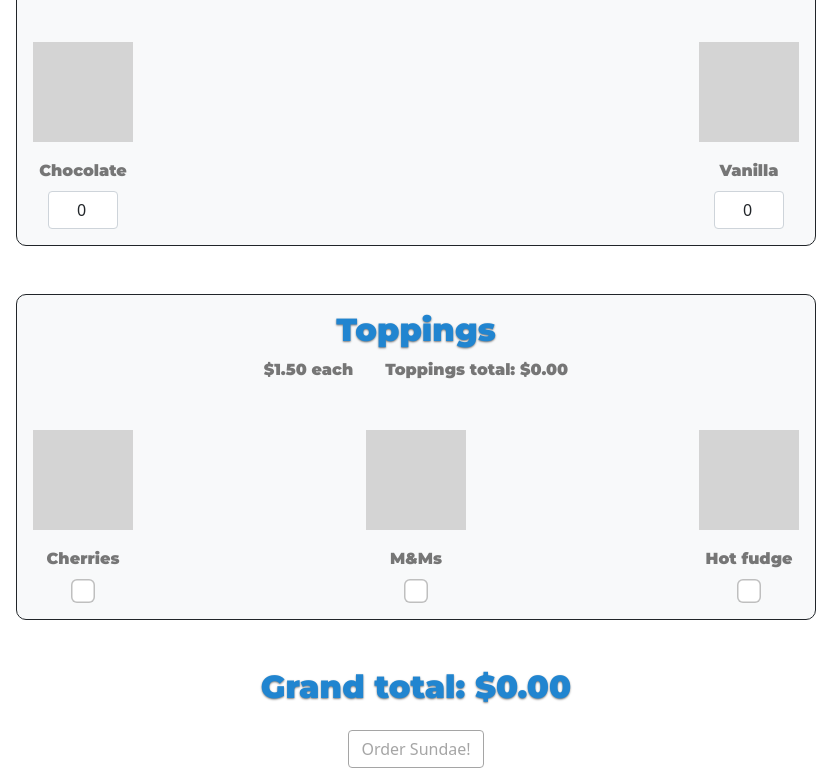
Test case: grand total › grand total updates properly if item is removed
(page scrolled)
// Add cherries
Step 1. Click the checkbox labelled "Cherries" → (83, 591), box [71,579,95,603]
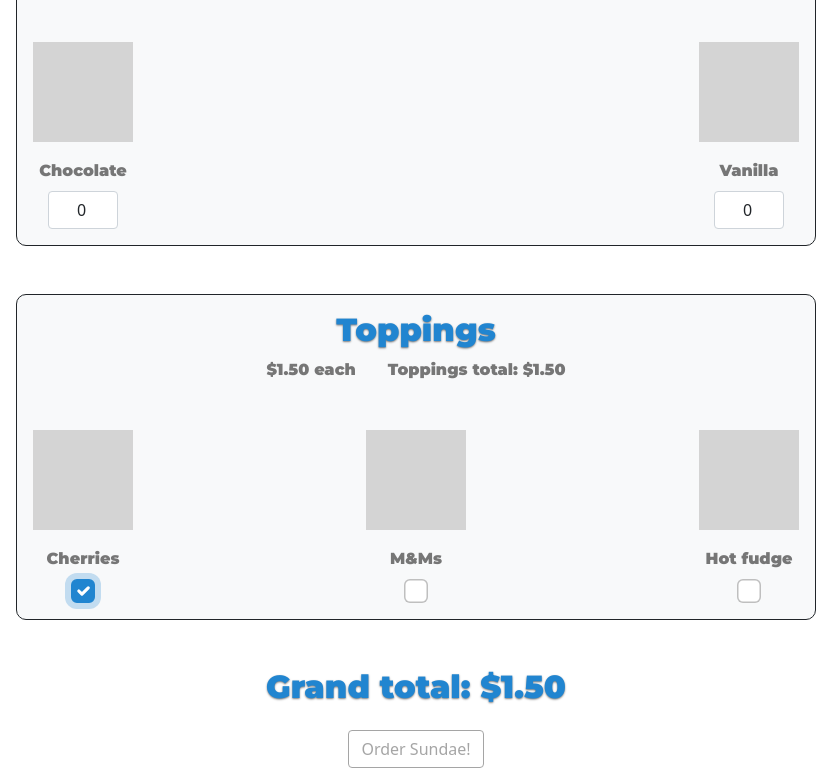
Step 2. Replace the text in the number field labelled "Vanilla" with "2" → (749, 210), box [714,191,784,229]
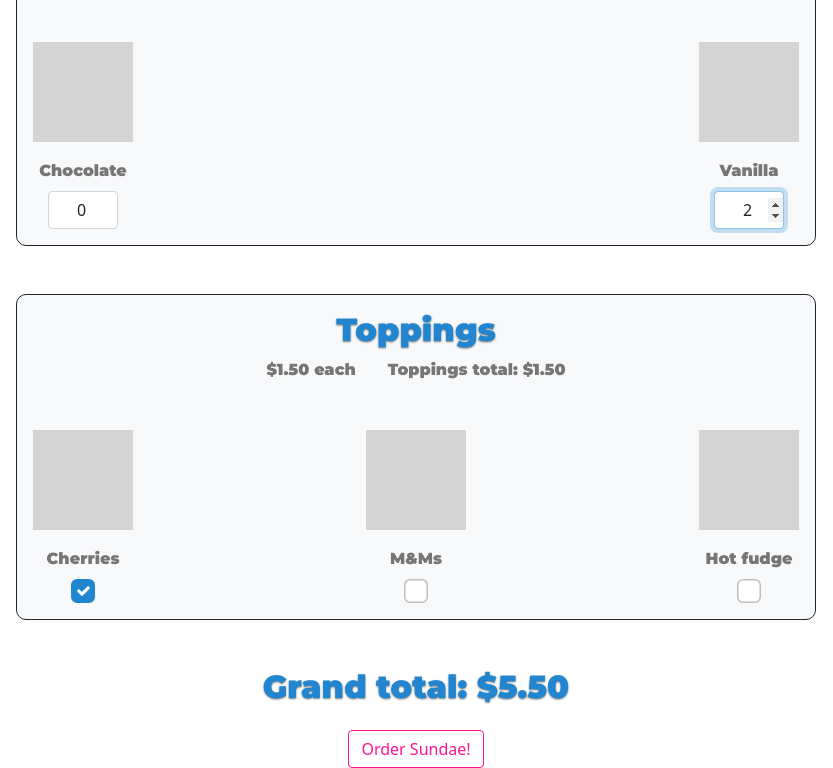
// Remove 1 scoop of vanilla and check grand total
Step 3. Replace the text in the number field labelled "Vanilla" with "1" → (749, 210), box [714,191,784,229]
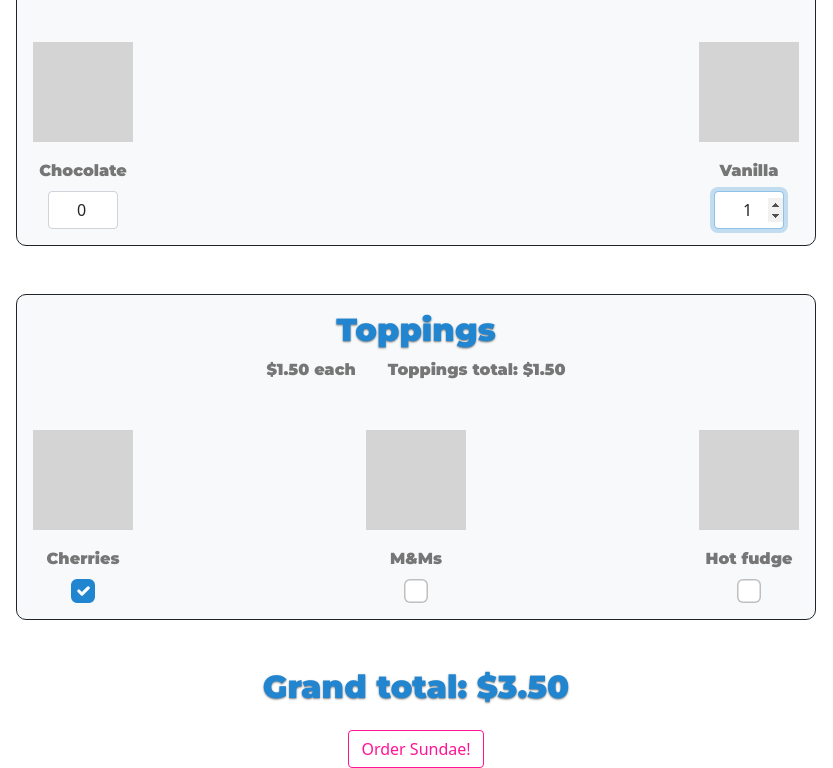
Expected: the heading "Grand total: $3.50" is shown, [263,667,569,706]
// Remove cherries and check grand total
Step 4. Click the checkbox labelled "Cherries" → (83, 591), box [71,579,95,603]
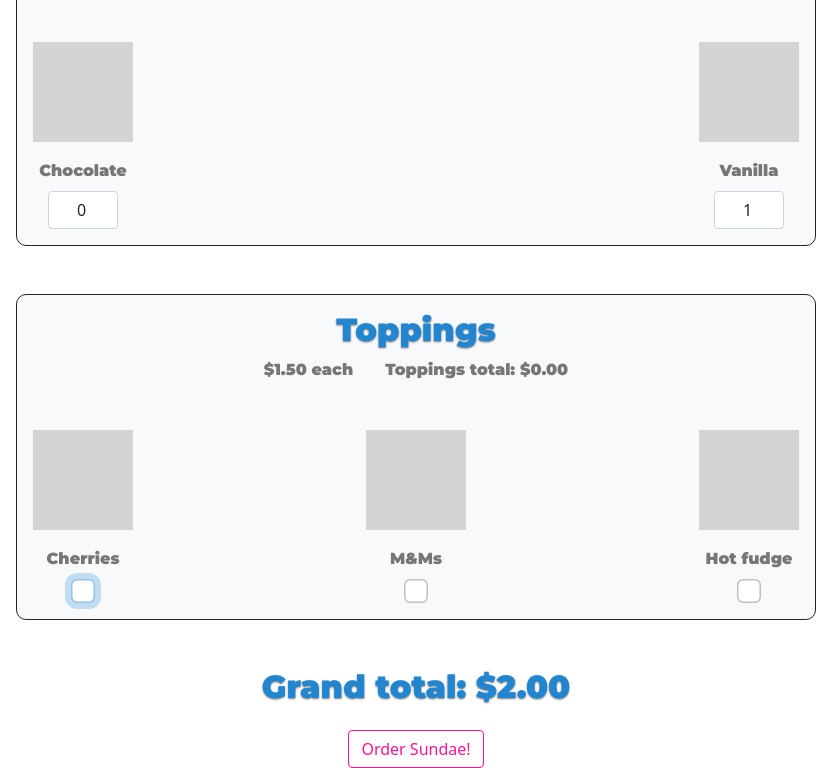
Expected: the heading "Grand total: $2.00" is shown, [262,667,570,706]
